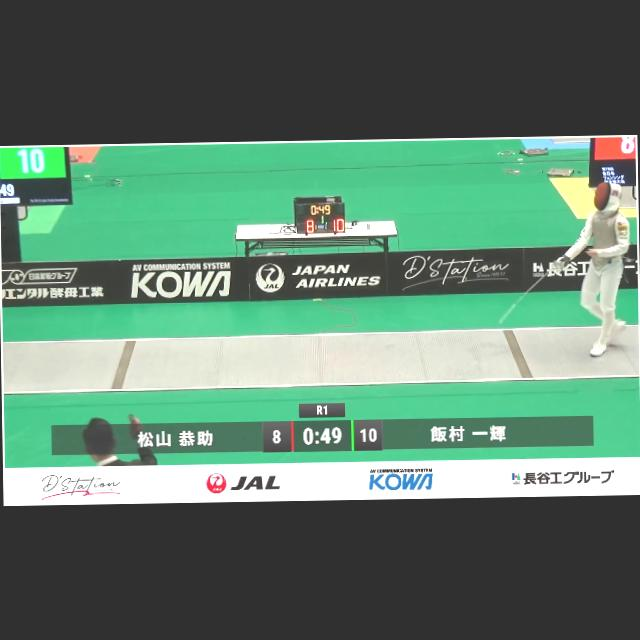blade: (496, 257, 566, 326)
